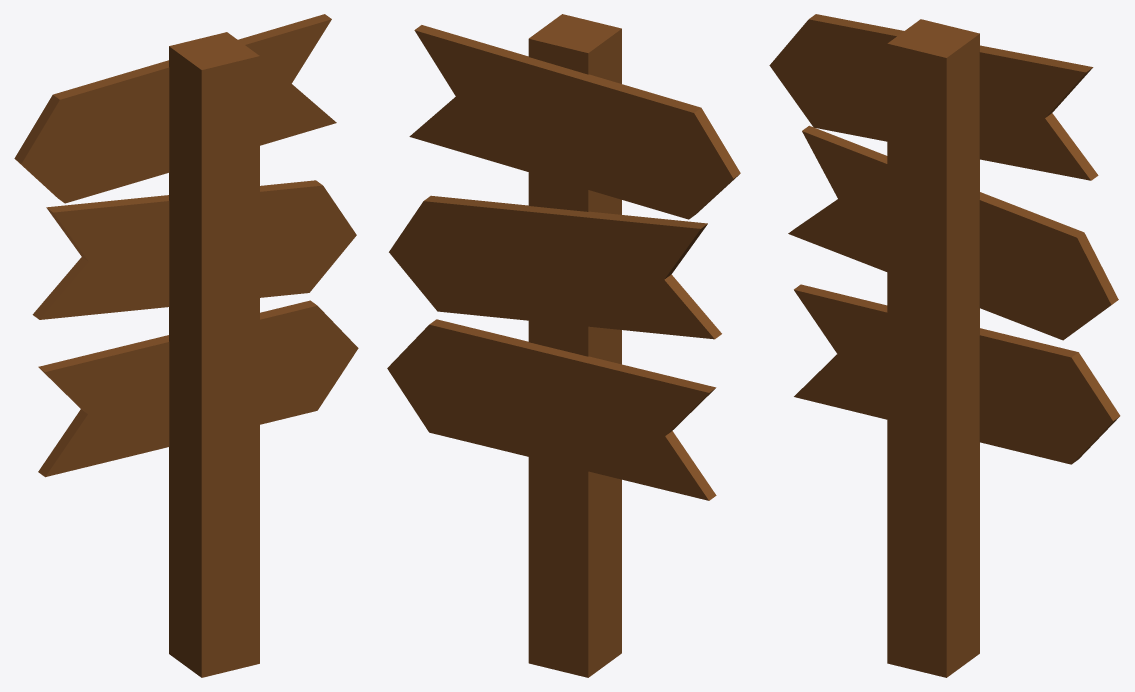
Rendered from Placa de direção.fbx.
The picture shows the model from 3 angles, left to right: view 1: azimuth 30°, elevation 25°; view 2: azimuth 150°, elevation 25°; view 3: azimuth 330°, elevation 25°; orthographic projection. The views are drawn at different scales.
Visible parts, largest first — view 1: Cube.005; view 2: Cube.005; view 3: Cube.005.
Boxes of the visible parts, x1=… form: Cube.005: x1=14, y1=14, x2=358, y2=677; Cube.005: x1=387, y1=14, x2=740, y2=677; Cube.005: x1=769, y1=14, x2=1120, y2=677.
Bounding box in the file's own units: 92.41 × 159 × 18.74.
